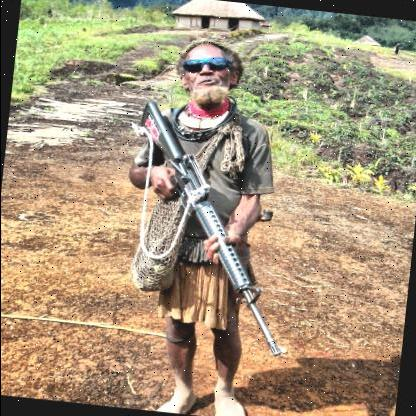rifle: (116, 97, 305, 357)
